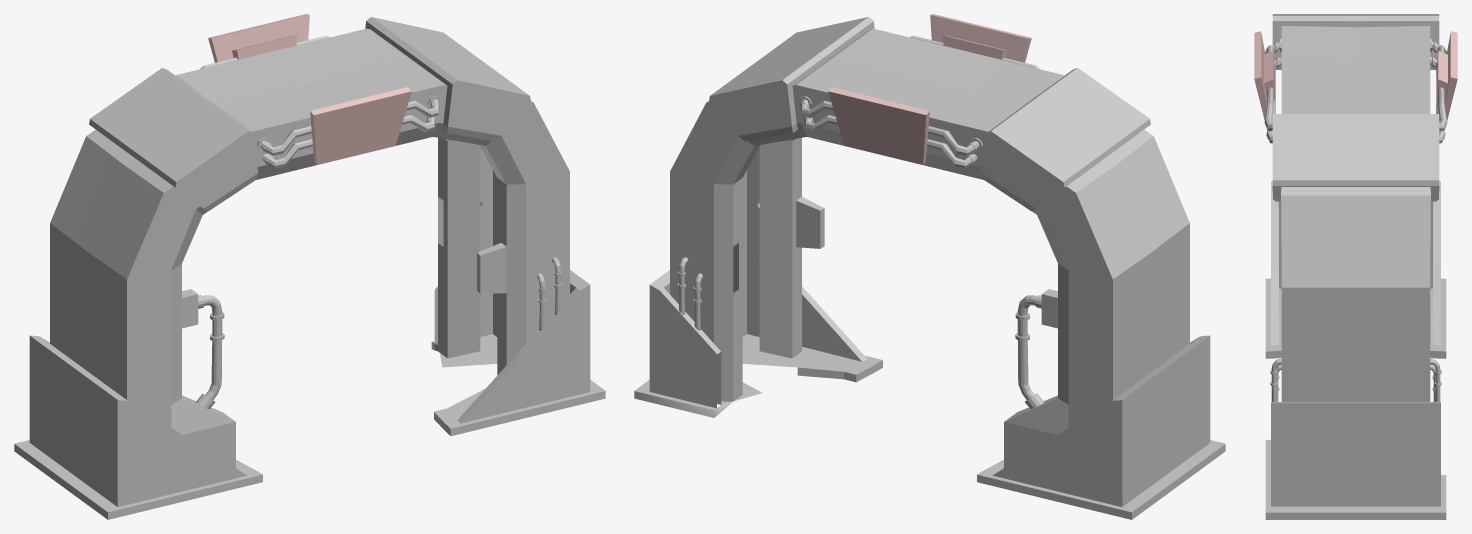
File: Ammunition.fbx
3 renders of one model, left to right at view 1: azimuth 30°, elevation 25°; view 2: azimuth 150°, elevation 25°; view 3: azimuth 270°, elevation 25°, orthographic. The views are drawn at different scales.
Visible parts, largest first — view 1: Object008; view 2: Object008; view 3: Object008.
Part boxes in pixels (x1,y1,x2,y2): Object008: (14,14,605,519); Object008: (634,14,1225,519); Object008: (1254,14,1457,519).
Bounding box in the file's own units: 22.11 × 15.37 × 8.13.
